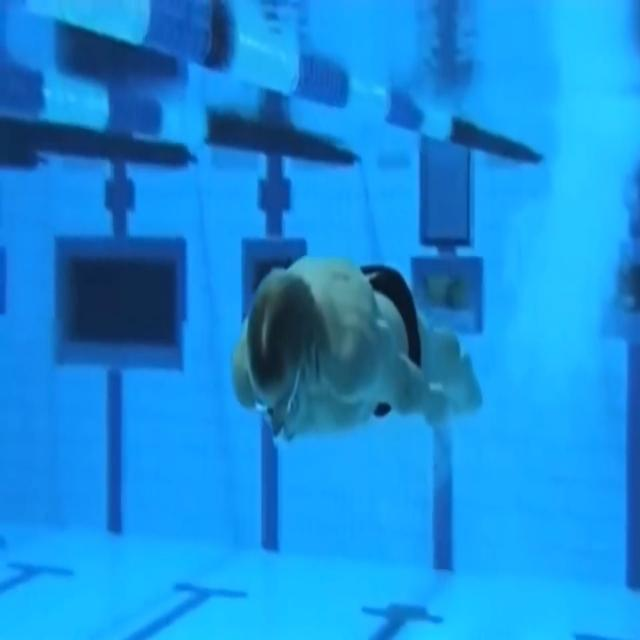Swimming: (230, 256, 485, 450)
